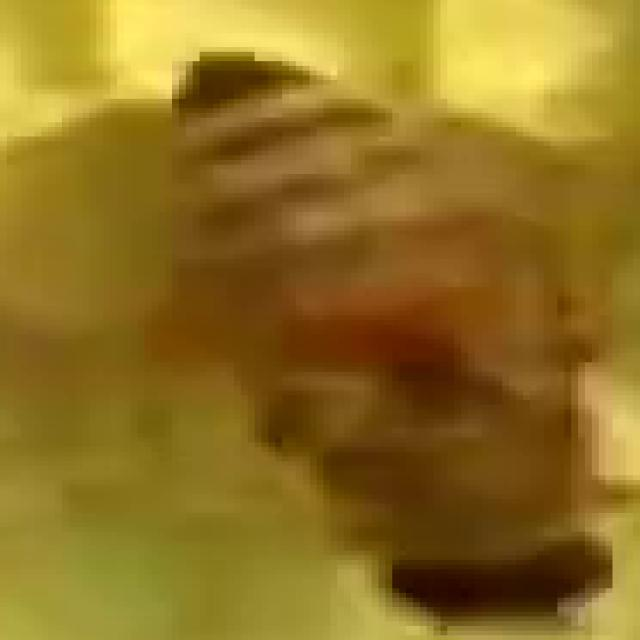honeybee: (155, 57, 640, 610)
